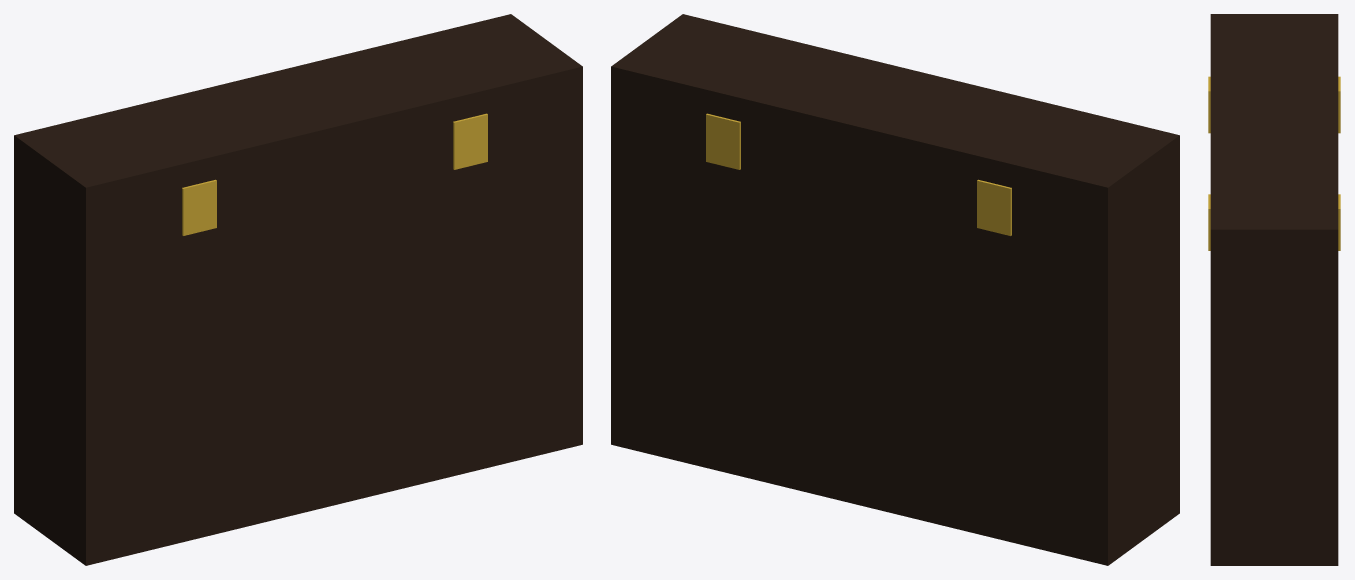
The model's file is prop_briefcase.glb.
The picture shows the model from 3 angles, left to right: view 1: azimuth 30°, elevation 25°; view 2: azimuth 150°, elevation 25°; view 3: azimuth 270°, elevation 25°; orthographic projection. The views are drawn at different scales.
Parts seen in each view (by area): view 1: Briefcase; view 2: Briefcase; view 3: Briefcase.
Part boxes in pixels (left/top/right/bottom): Briefcase: left=14, top=14, right=582, bottom=565; Briefcase: left=611, top=14, right=1179, bottom=565; Briefcase: left=1208, top=14, right=1340, bottom=565.
Size of the model in its own units: 0.44 by 0.32 by 0.114.
